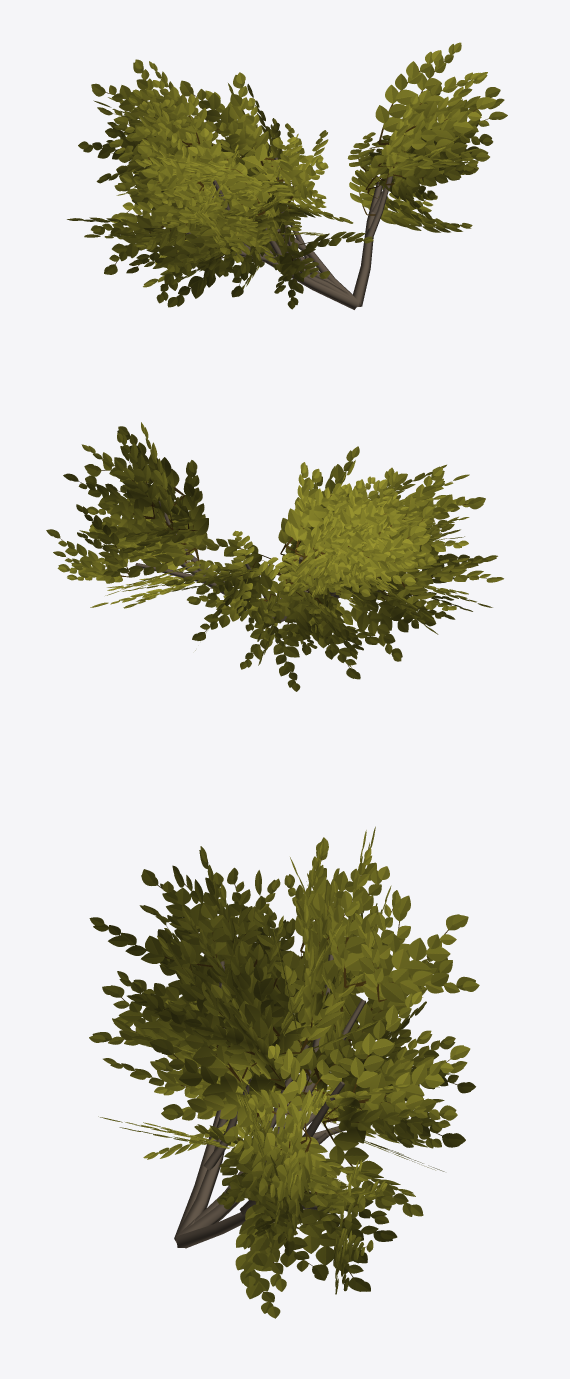
File: bush_1_burnt1.glb
The picture shows the model from 3 angles, top to bottom: view 1: azimuth 30°, elevation 25°; view 2: azimuth 150°, elevation 25°; view 3: azimuth 270°, elevation 25°; orthographic projection. The views are drawn at different scales.
Parts seen in each view (by area): view 1: bush_1_burnt1; view 2: bush_1_burnt1; view 3: bush_1_burnt1.
Part boxes in pixels (box(x1,y1,x2,y2)): bush_1_burnt1: box(67, 42, 507, 309); bush_1_burnt1: box(46, 422, 503, 691); bush_1_burnt1: box(89, 826, 479, 1318).
Bounding box in the file's own units: 3.33 × 1.73 × 2.26.
Materials: 2 (1 with a texture image).
